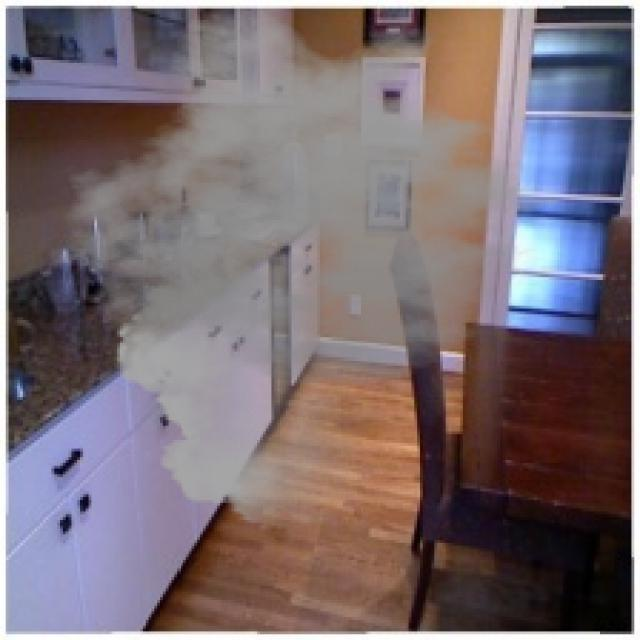Smoke: (49, 6, 578, 532)
